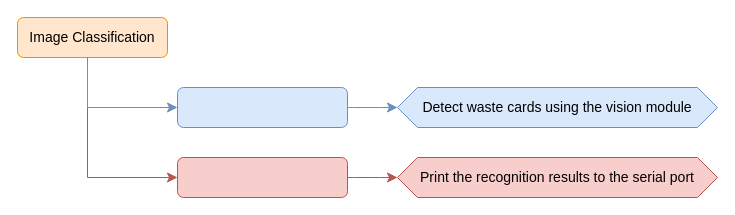
Some shapes in this 735 by 215 pixel diagram are drawn without their labels. Each missing label, with the box of its shape:
Image Recognition Task: (176, 86, 348, 128)
Serial Print Task: (176, 156, 348, 198)
